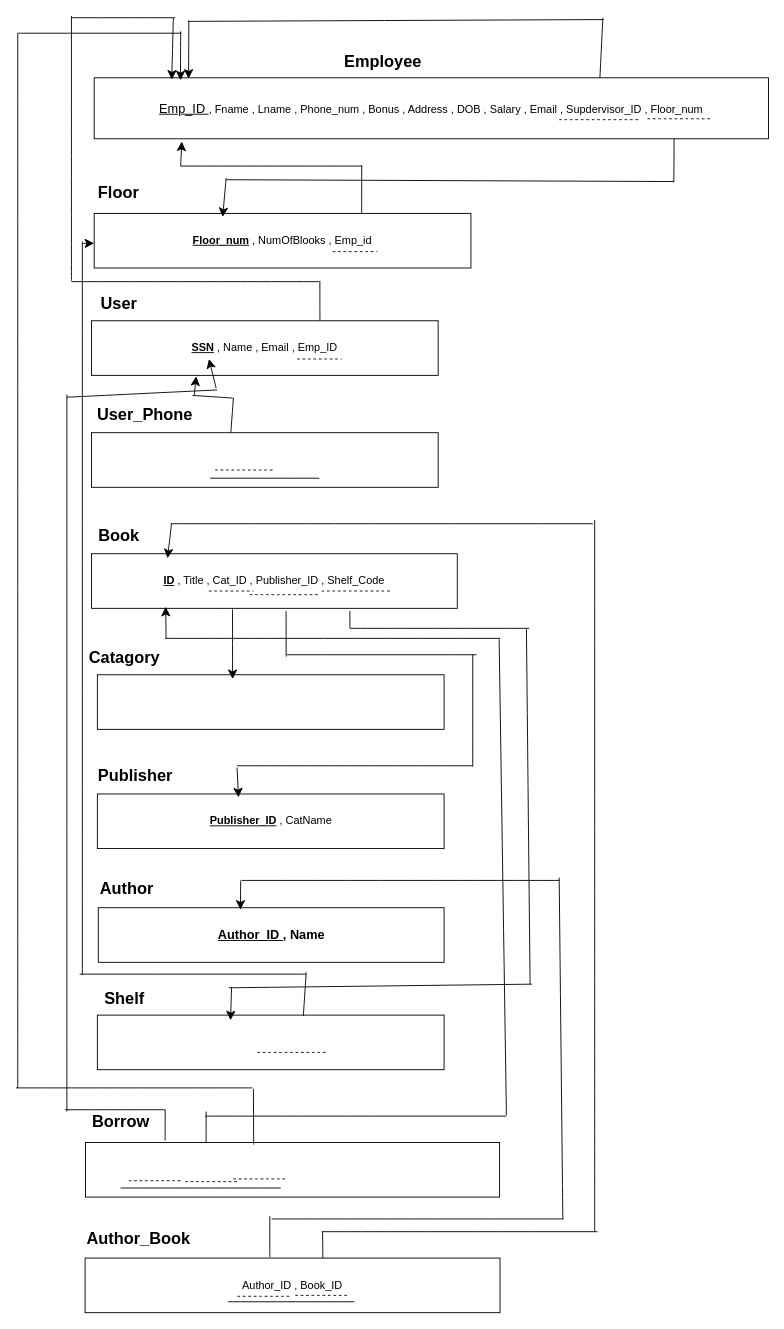
The diagram is 784 pixels wide and 1329 high, and some of its shapes have lost their labels. The shapes that lost their labels are listed below. From the top down, each one's box as (x1, y1, x2, y2) in pixels, then its label:
(91, 432, 438, 487): User_SSN , Phone
(96, 674, 444, 729): Cat_ID , CatName
(96, 1014, 444, 1070): Code , Floor_Num
(85, 1142, 500, 1197): User_SSN , Book_ID , Emp_ID , Due_Date , Fees , Date_Borrowed
